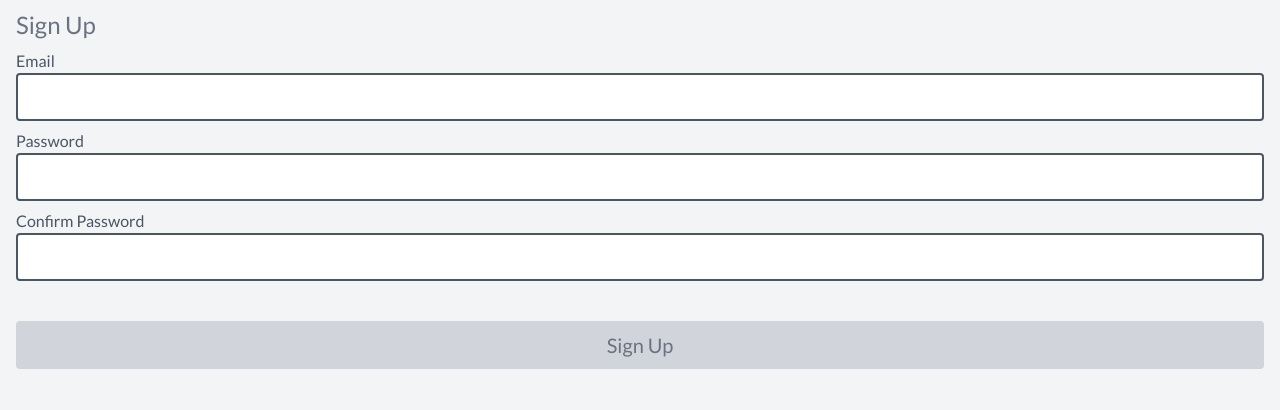
Scenario: SignupComponent › Email is valid and Password Criteria not satisfied
This screenshot has width=1280, height=410.
Type "user1@validemail.com" into the field labelled "Email" at (640, 97), box [16, 73, 1264, 121]
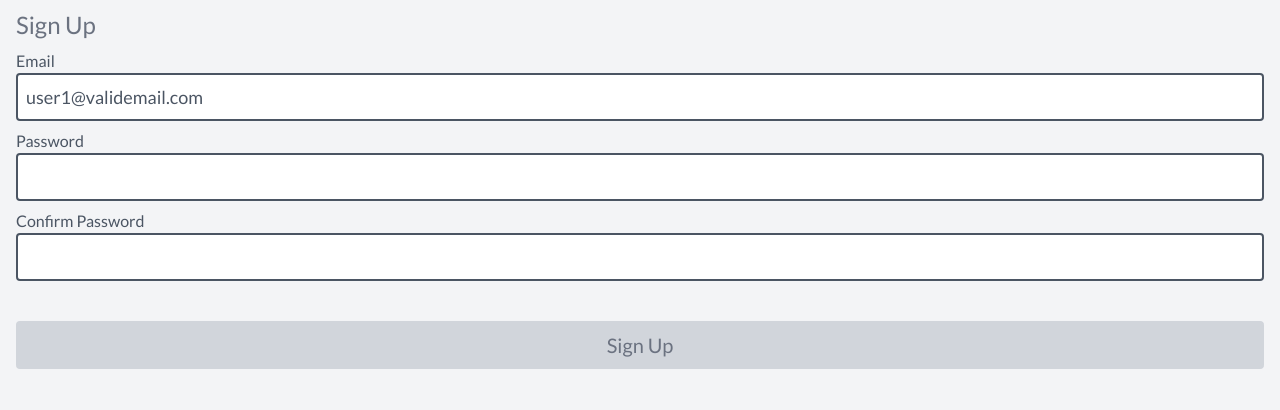
Type "pasod" into the password field labelled "Password" at (640, 177), box [16, 153, 1264, 201]
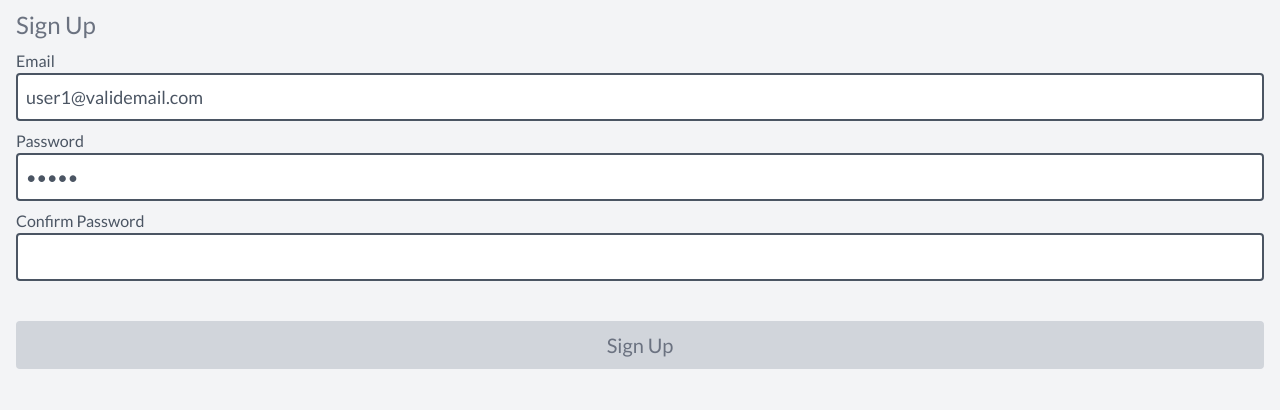
Type "pasod" into the password field labelled "Confirm Password" at (640, 257), box [16, 233, 1264, 281]
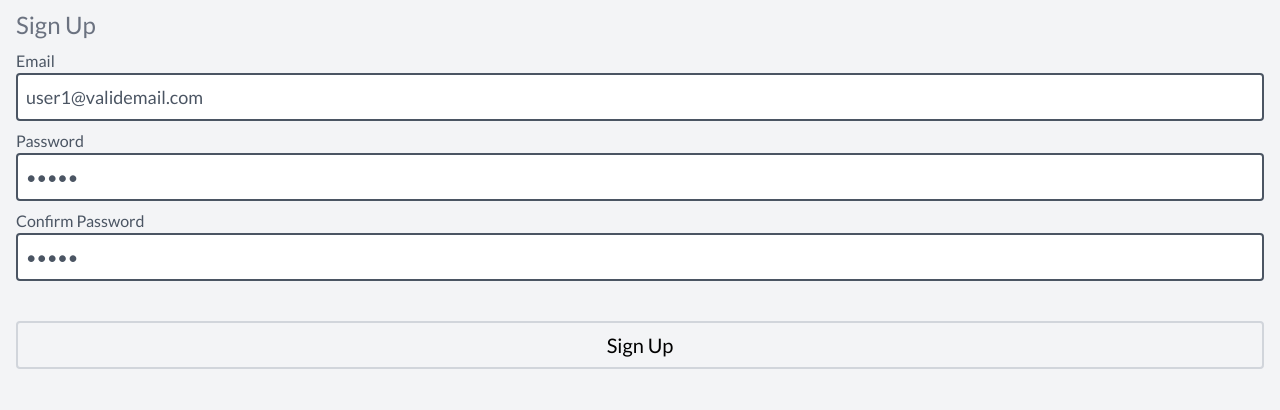
Click the button with id "btn_submit" at (640, 345), box [16, 321, 1264, 369]
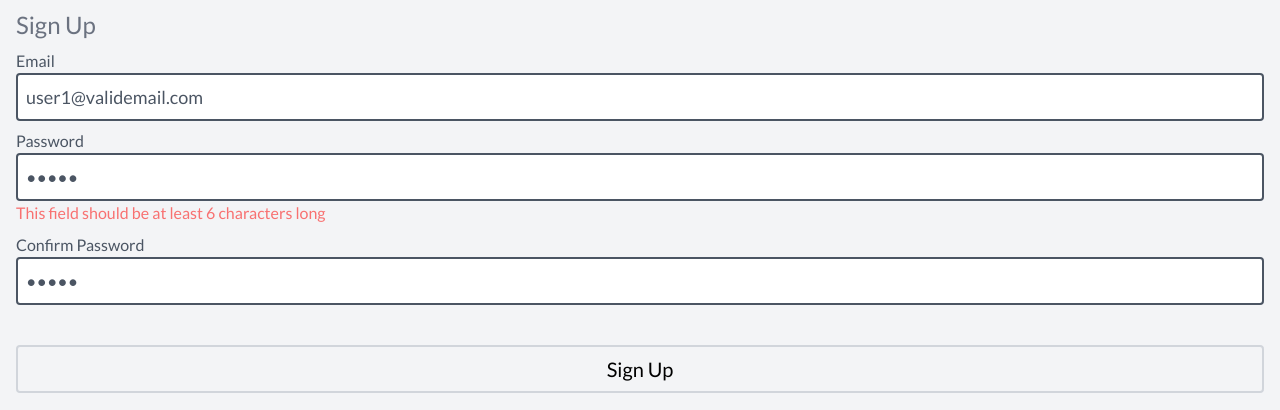
Now the text "This field should be at least 6 characters long" is shown, box [16, 203, 326, 222]
